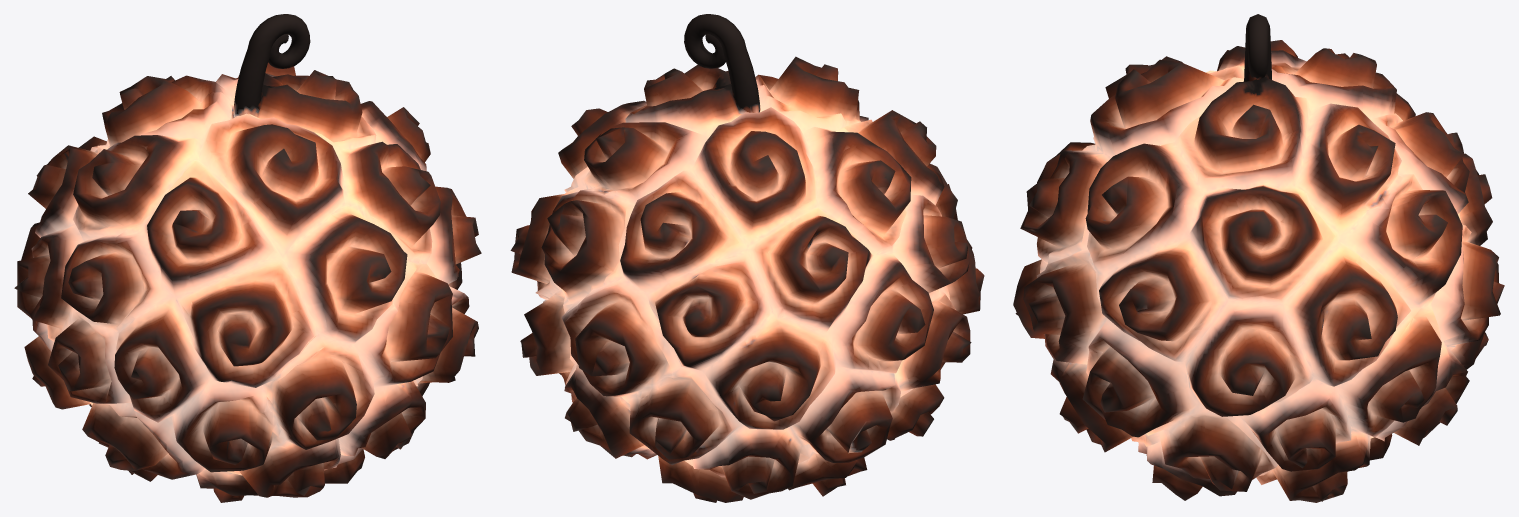
The model's file is magma.fbx.
3 views of the same model, side by side, from view 1: azimuth 30°, elevation 25°; view 2: azimuth 150°, elevation 25°; view 3: azimuth 270°, elevation 25° (orthographic). The views are drawn at different scales.
Visible parts, largest first — view 1: MagmaFruit; view 2: MagmaFruit; view 3: MagmaFruit.
Boxes of the visible parts, x1,y1,x2,y2 form: MagmaFruit: [14, 14, 481, 502]; MagmaFruit: [510, 14, 984, 502]; MagmaFruit: [1013, 14, 1504, 502].
Size of the model in its own units: 2.03 by 2.16 by 2.
